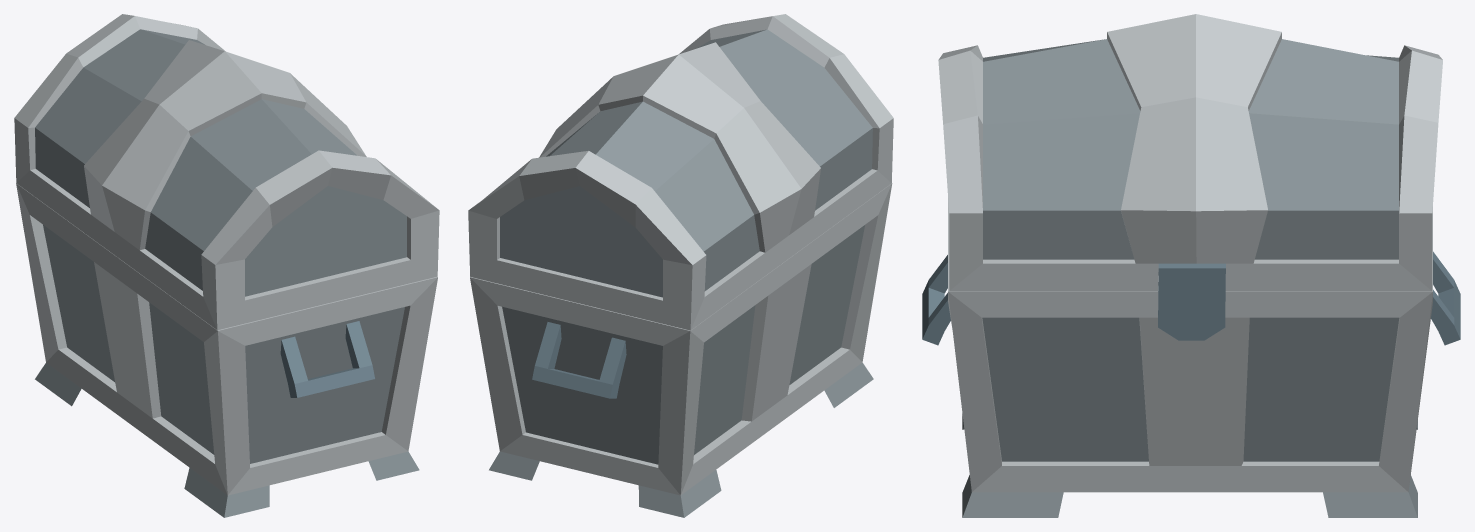
File: Chest-C03.fbx
3 views of the same model, side by side, from view 1: azimuth 30°, elevation 25°; view 2: azimuth 150°, elevation 25°; view 3: azimuth 270°, elevation 25° (orthographic). The views are drawn at different scales.
Parts seen in each view (by area): view 1: Chest-C-top, Chest-C03; view 2: Chest-C-top, Chest-C03; view 3: Chest-C-top, Chest-C03.
Part boxes in pixels (box(x1,y1,x2,y2)): Chest-C-top: box(14, 14, 439, 330); Chest-C03: box(16, 183, 437, 517); Chest-C-top: box(468, 14, 893, 330); Chest-C03: box(470, 183, 892, 517); Chest-C-top: box(938, 14, 1442, 340); Chest-C03: box(922, 198, 1460, 517).
Bounding box in the file's own units: 70.52 × 102 × 112.
